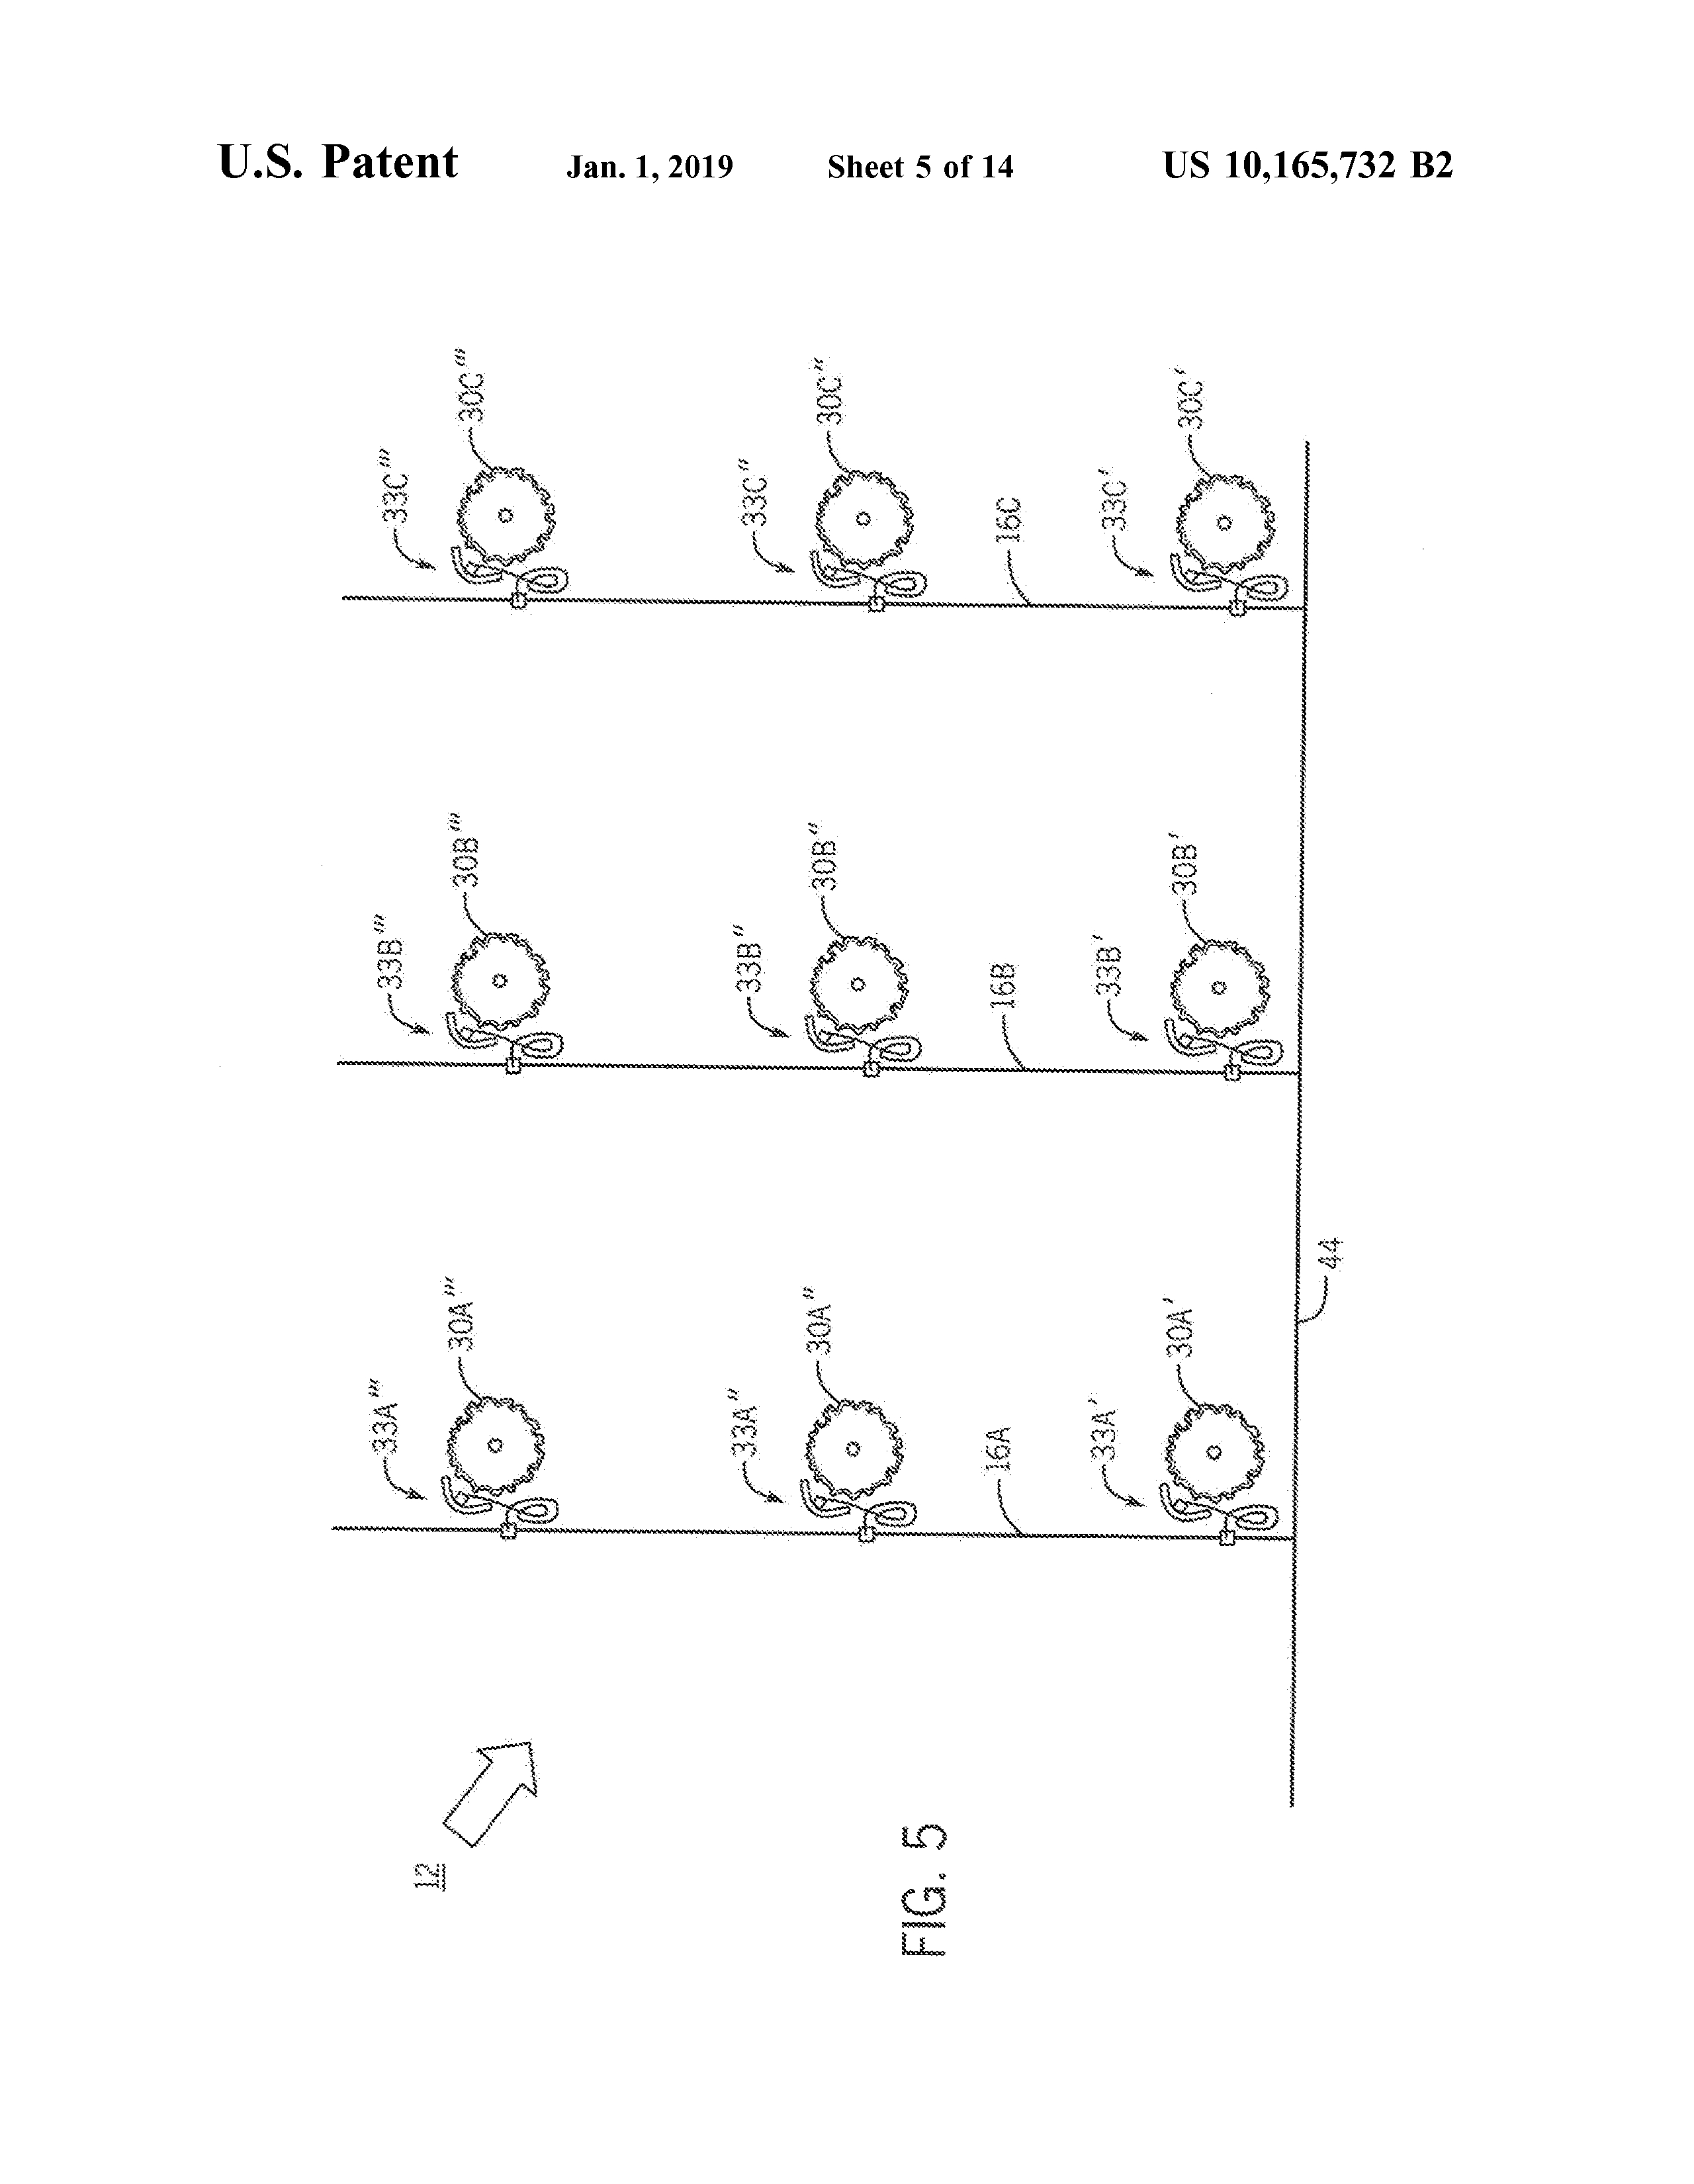patent image: (319, 328, 1383, 2009)
